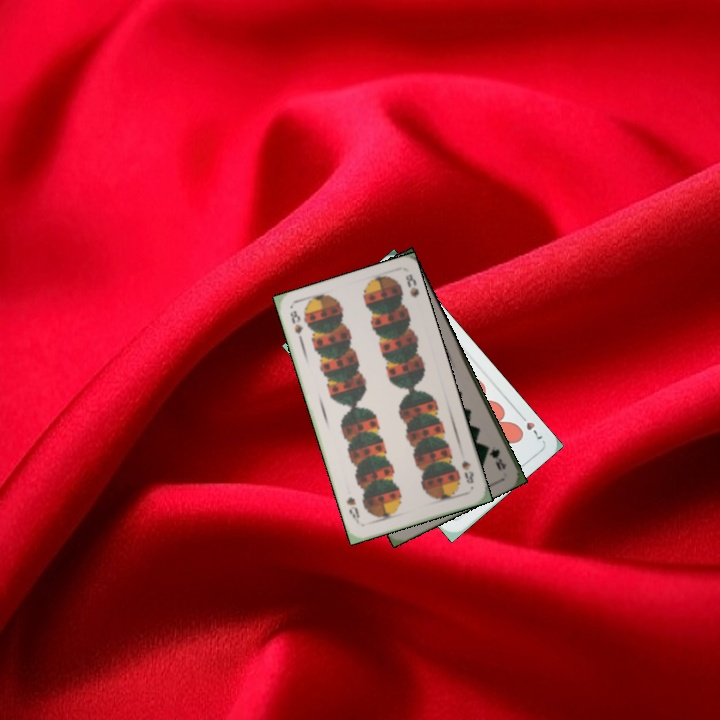G9: (486, 445, 509, 474)
H7: (515, 409, 545, 442)
S8: (286, 306, 306, 346), (457, 456, 476, 486)
